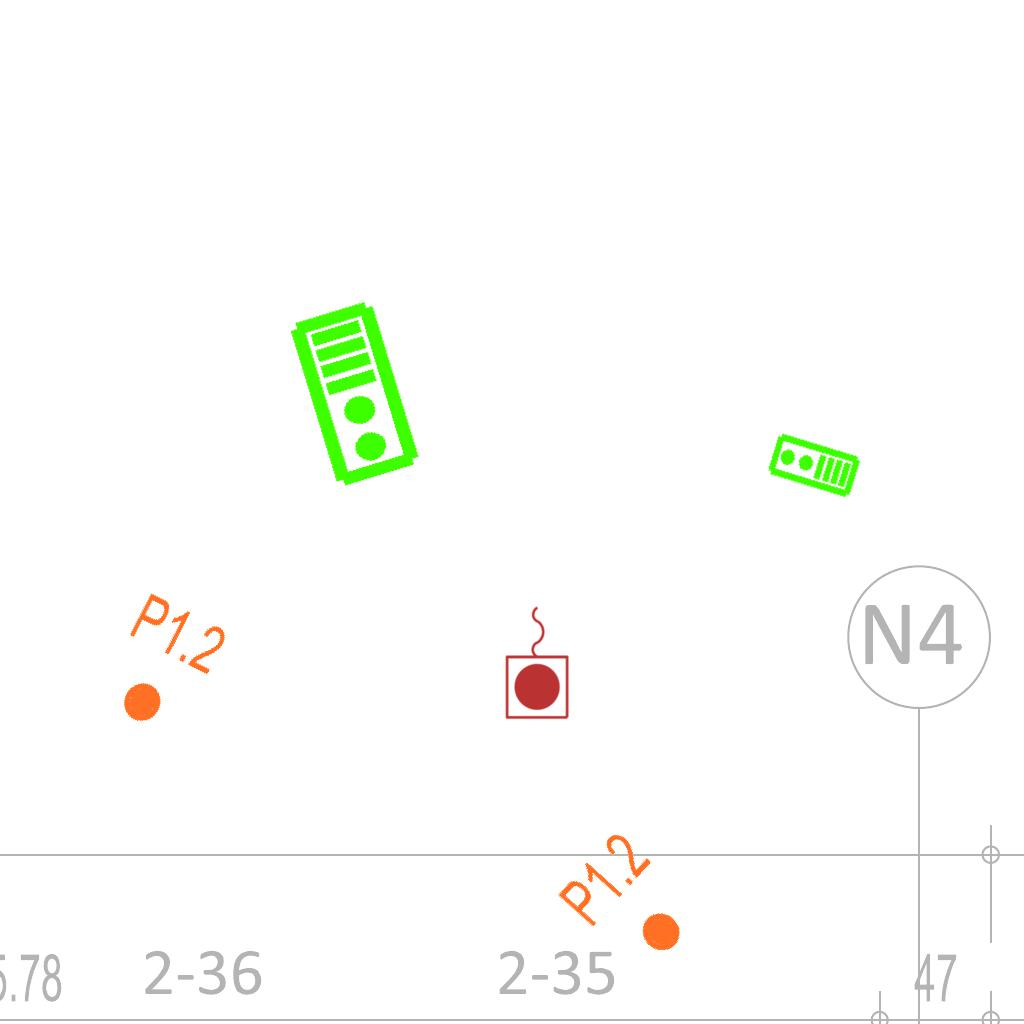Downlight_LED_Einbauleuchten_Flur: (552, 825, 711, 981), (92, 587, 233, 745)
Gegensprechanlage_mit_Video: (285, 295, 428, 493), (764, 430, 863, 502)
Zugtaster: (502, 601, 574, 723)
